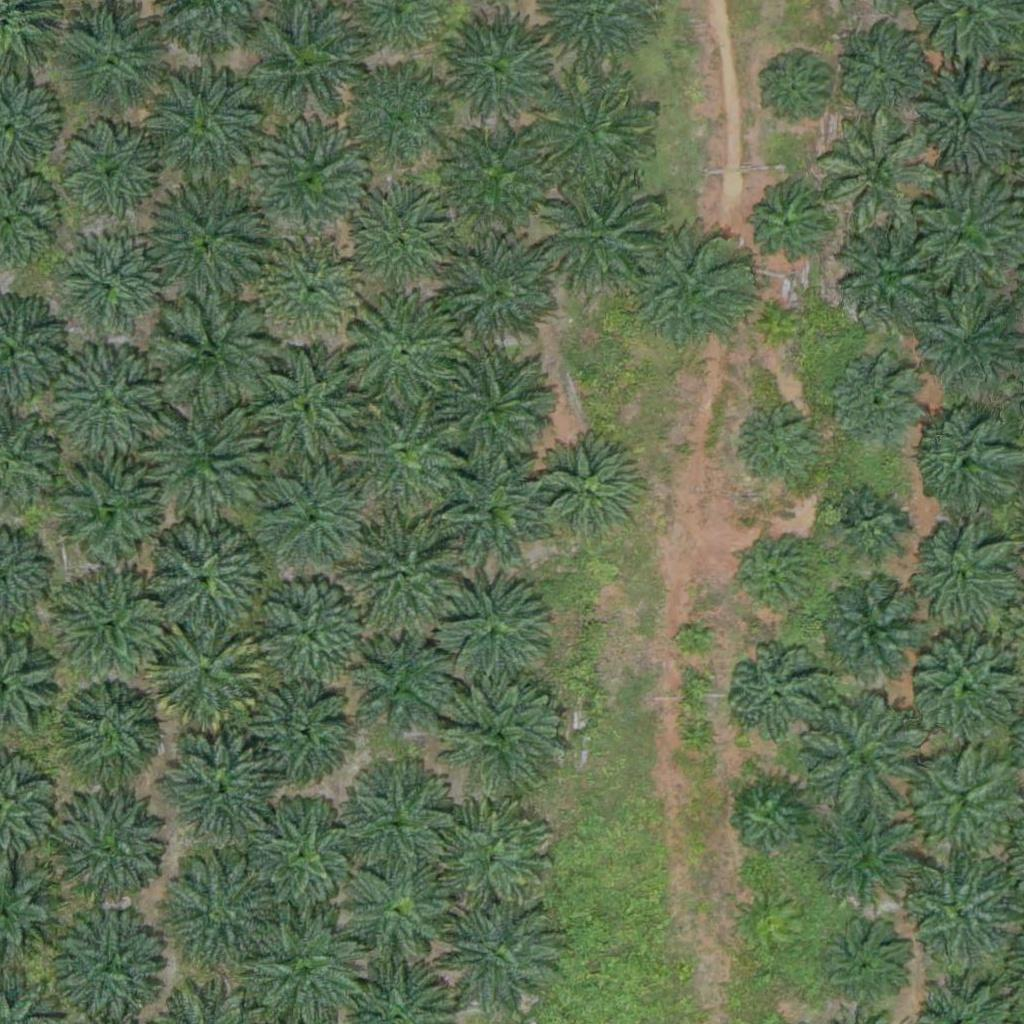Kelapa_Sawit: (238, 1, 363, 127), (441, 122, 566, 248), (531, 78, 656, 204), (533, 171, 658, 297), (430, 349, 555, 475), (436, 570, 561, 696), (435, 666, 560, 792), (337, 518, 462, 644), (344, 390, 469, 516), (336, 293, 461, 419), (241, 350, 366, 476), (139, 522, 264, 648), (133, 401, 258, 527), (157, 297, 282, 423), (146, 180, 271, 306), (48, 449, 173, 575), (797, 692, 922, 818), (336, 758, 461, 884), (243, 794, 368, 920), (430, 796, 555, 922), (48, 786, 173, 912), (151, 854, 276, 980), (156, 726, 281, 852), (434, 896, 559, 1022), (633, 225, 758, 350), (146, 619, 271, 744), (48, 561, 173, 686), (146, 71, 259, 185), (258, 128, 371, 242), (254, 232, 367, 346), (820, 115, 933, 228), (902, 519, 1015, 632), (533, 438, 646, 551), (343, 636, 456, 749), (257, 462, 370, 575), (255, 576, 368, 689), (59, 6, 171, 120), (439, 452, 551, 566), (348, 63, 460, 176), (837, 224, 949, 337), (439, 237, 551, 350), (346, 180, 458, 293), (57, 229, 169, 342), (52, 351, 164, 464), (910, 751, 1022, 864), (811, 802, 923, 915), (906, 858, 1018, 971), (62, 129, 162, 230), (833, 27, 933, 128), (830, 353, 930, 454), (822, 584, 922, 685), (250, 677, 350, 778), (60, 677, 160, 778), (726, 647, 826, 747), (348, 866, 448, 966), (735, 405, 823, 493), (733, 533, 821, 621), (745, 181, 833, 269), (823, 916, 910, 1004), (732, 781, 807, 857), (758, 57, 833, 132), (834, 488, 909, 563), (768, 304, 806, 342), (676, 624, 713, 662)
